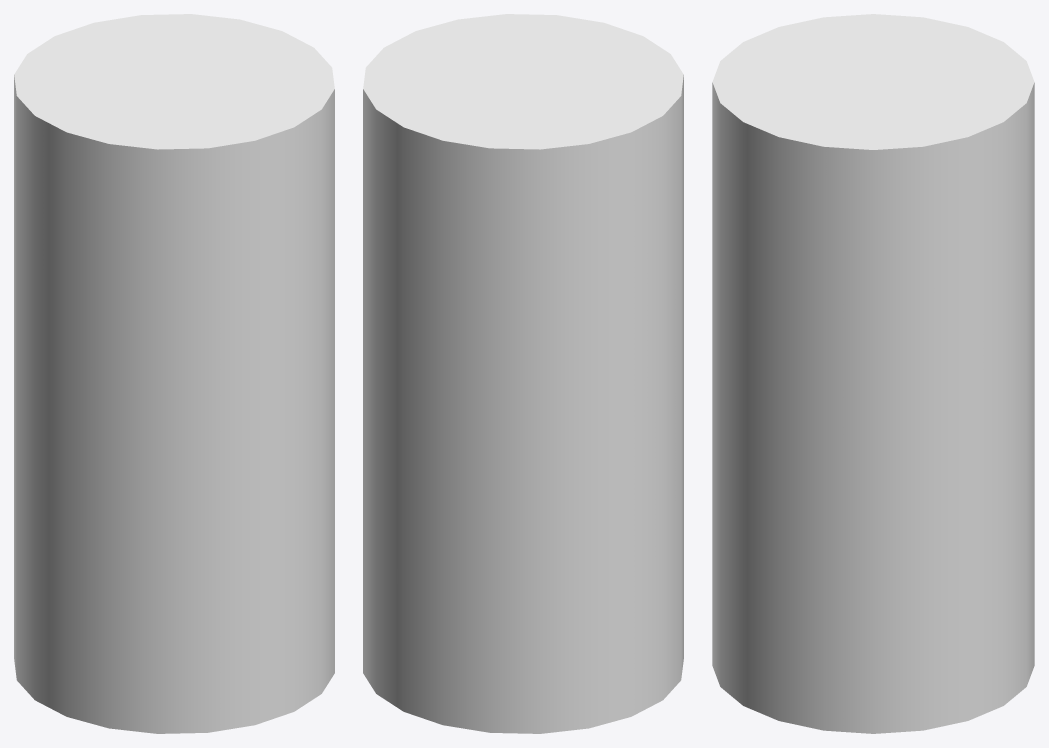
3 renders of one model, left to right at view 1: azimuth 30°, elevation 25°; view 2: azimuth 150°, elevation 25°; view 3: azimuth 270°, elevation 25°, orthographic.
Visible parts, largest first — view 1: Water_Bucket; view 2: Water_Bucket; view 3: Water_Bucket.
Boxes of the visible parts, x1=… form: Water_Bucket: x1=14, y1=14, x2=334, y2=733; Water_Bucket: x1=363, y1=14, x2=683, y2=733; Water_Bucket: x1=712, y1=14, x2=1034, y2=733.
Bounding box in the file's own units: 1 × 2 × 1.
Materials: 1 (1 with a texture image).
